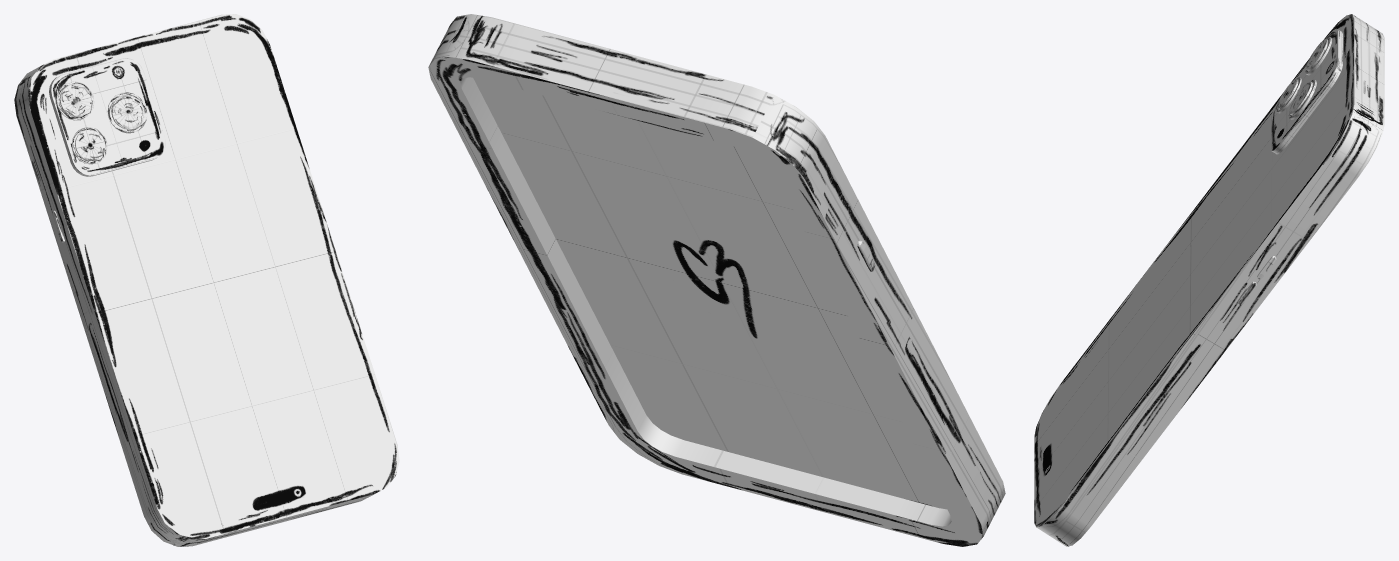
File: PhoneFixes.fbx
The picture shows the model from 3 angles, left to right: view 1: azimuth 30°, elevation 25°; view 2: azimuth 150°, elevation 25°; view 3: azimuth 270°, elevation 25°; orthographic projection. The views are drawn at different scales.
Parts seen in each view (by area): view 1: main_phone_part2; view 2: main_phone_part2; view 3: main_phone_part2.
Boxes of the visible parts, x1,y1,x2,y2 form: main_phone_part2: [14, 14, 399, 546]; main_phone_part2: [428, 14, 1005, 546]; main_phone_part2: [1034, 14, 1384, 546].
Size of the model in its own units: 4.96 by 7.61 by 5.53.
